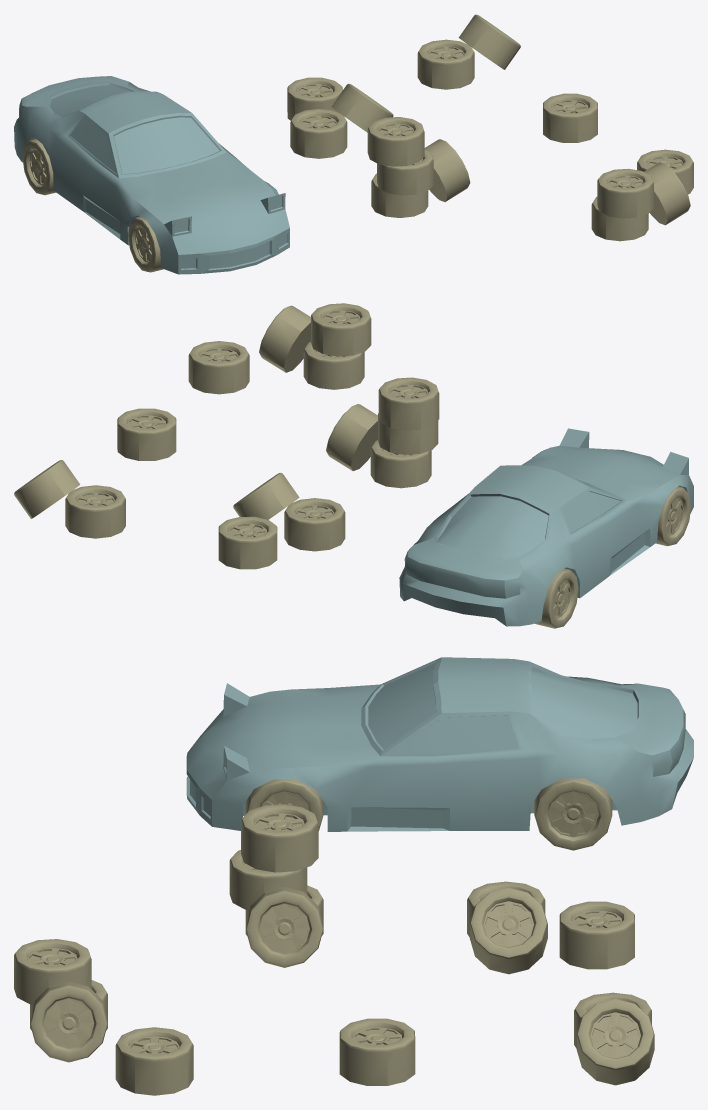
The model's file is tire_stacks.fbx.
3 views of the same model, one above another, from view 1: azimuth 30°, elevation 25°; view 2: azimuth 150°, elevation 25°; view 3: azimuth 270°, elevation 25° (orthographic). The views are drawn at different scales.
Parts seen in each view (by area): view 1: mazda_rx7, tire_stacl_3, tire07, tire_stack_2, tire14, tire_stack_4, tire08, tire15, tire17, tire06, tire11, tire10 (+5 smaller); view 2: mazda_rx7, tire07, tire_stack_2, tire16, tire_stacl_3, tire14, tire11, tire_stack_4, tire15, tire08, tire_stack_5, tire_stack_1 (+5 smaller); view 3: mazda_rx7, tire17, tire10, tire08, tire15, tire16, tire07, tire_stack_4, tire11, tire02, tire14, tire06 (+3 smaller).
Part boxes in pixels (box(x1,y1,x2,y2)): mazda_rx7: box(14, 76, 289, 274); tire_stacl_3: box(417, 39, 474, 89); tire07: box(367, 117, 424, 166); tire_stack_2: box(290, 109, 347, 158); tire14: box(597, 168, 653, 218); tire_stack_4: box(543, 93, 597, 142); tire08: box(424, 139, 470, 201); tire15: box(644, 162, 690, 225); tire17: box(458, 14, 520, 69); tire06: box(377, 150, 433, 195); tire11: box(287, 77, 342, 120); tire10: box(331, 83, 393, 132); mazda_rx7: box(399, 428, 693, 626); tire07: box(378, 377, 439, 430); tire_stack_2: box(284, 498, 345, 551); tire16: box(188, 341, 249, 394); tire_stacl_3: box(65, 485, 125, 538); tire14: box(311, 303, 371, 356); tire11: box(218, 516, 277, 569); tire_stack_4: box(117, 408, 176, 460); tire15: box(259, 305, 310, 372); tire08: box(326, 404, 377, 470); tire_stack_5: box(303, 342, 364, 389); tire_stack_1: box(370, 440, 431, 488); mazda_rx7: box(186, 657, 693, 831); tire17: box(576, 999, 654, 1085); tire10: box(469, 888, 547, 974); tire08: box(245, 886, 323, 967); tire15: box(30, 981, 107, 1062); tire16: box(115, 1027, 193, 1095); tire07: box(241, 804, 318, 872); tire_stack_4: box(339, 1018, 415, 1085); tire11: box(559, 901, 634, 969); tire02: box(534, 778, 612, 850); tire14: box(14, 939, 91, 1004); tire06: box(229, 850, 307, 910).
Size of the model in its own units: 6.64 by 1.25 by 5.7.
